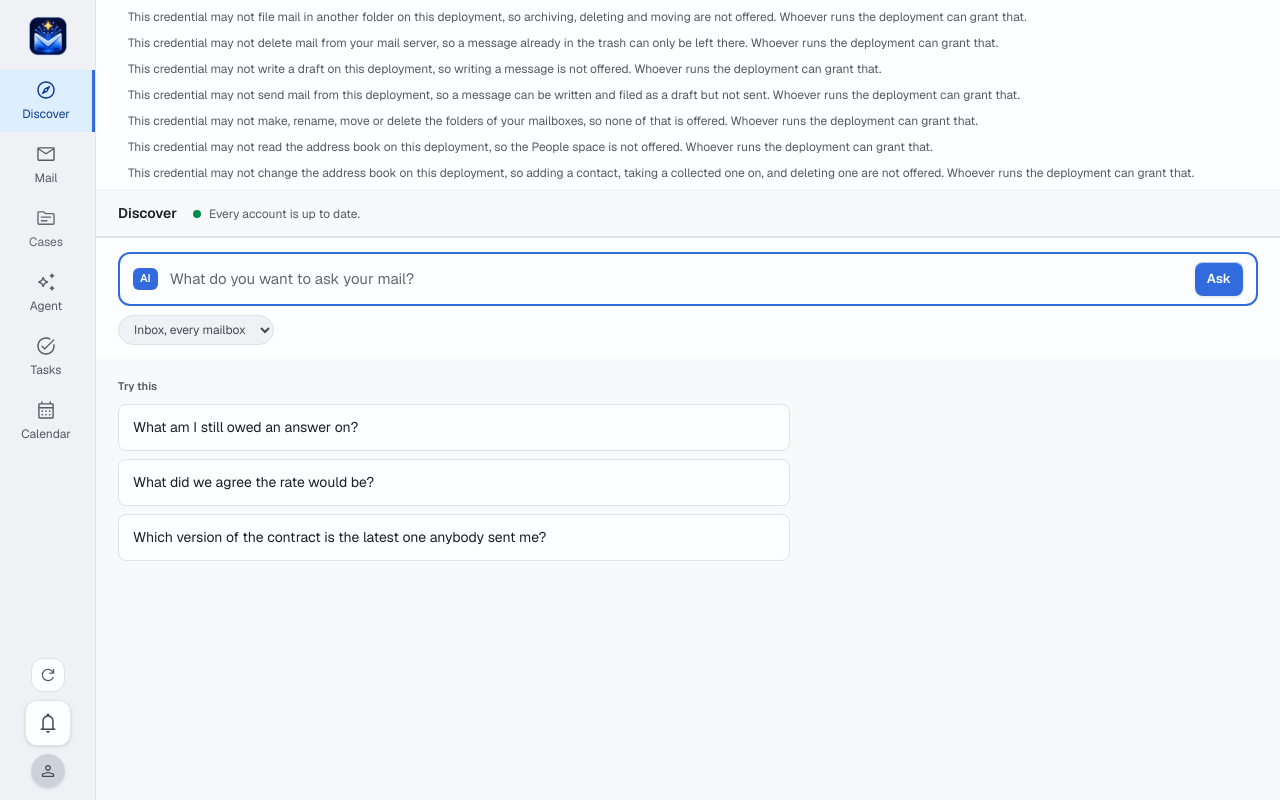
App › marks read a message a row opened, where the credential may write a flag
Expected: the heading "Every account is up to date." is shown, [193,204,360,222]
Click the link "Mail" at (46, 164), box [34,143,57,186]
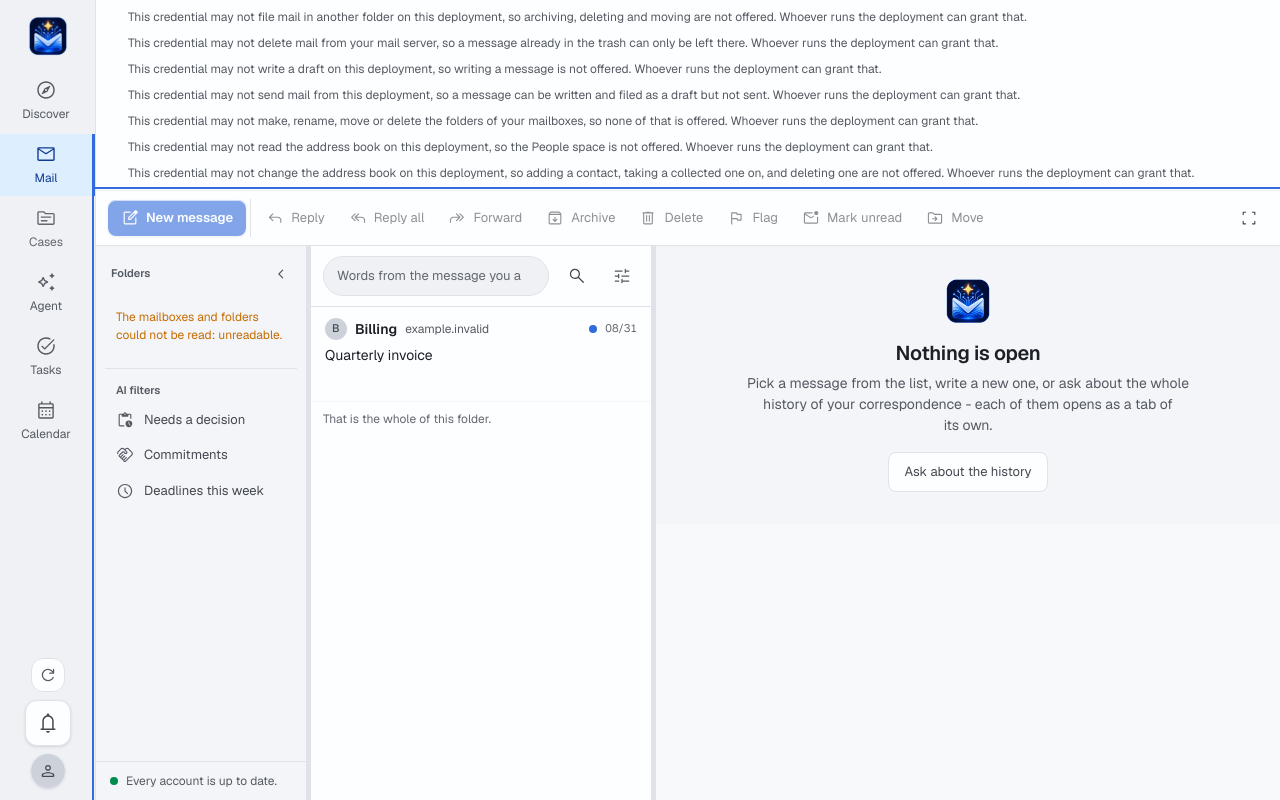
Result: the element named "Mail" is shown
Press the mouse on the option "B Billing example.invalid 08/31 Quarterly invoice" at (481, 354), box [311,306,651,402]
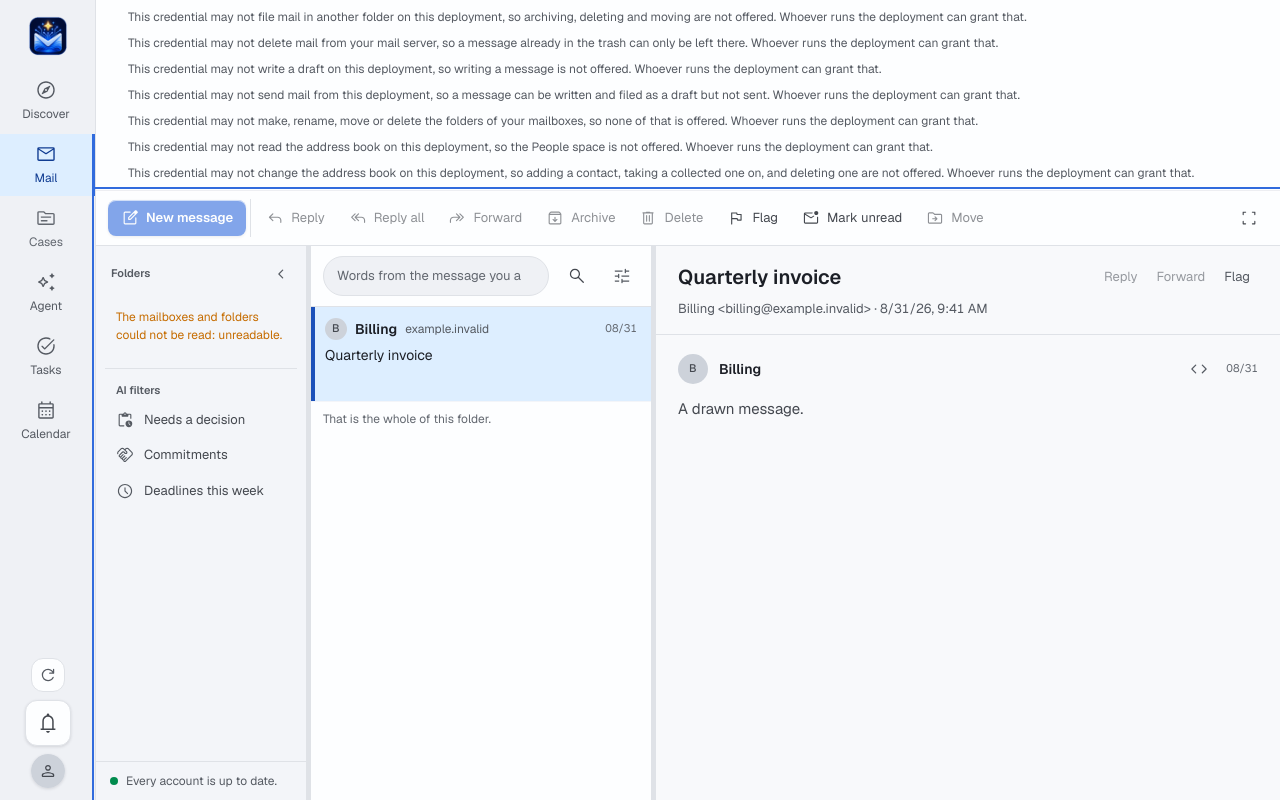
Result: the text "A drawn message." is shown at [678,399,803,418]
